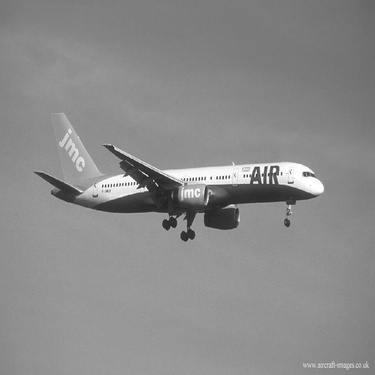airplane: (27, 93, 329, 249)
